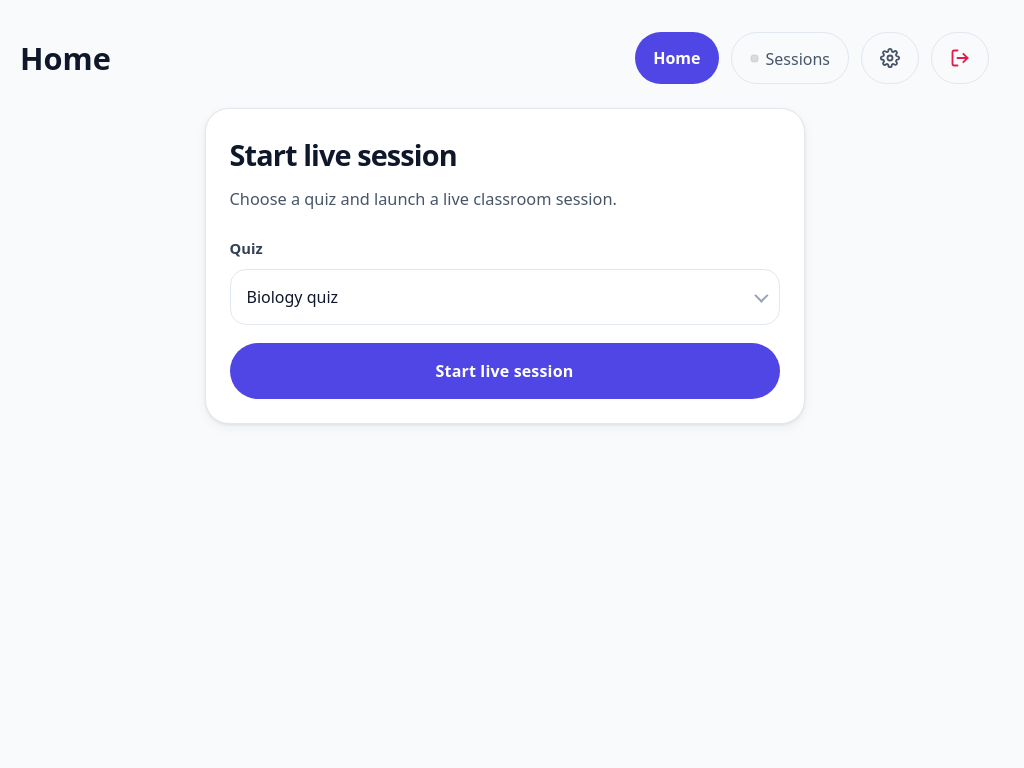
Test: App › shows simplified settings without app identity controls
This screenshot has width=1024, height=768.
Click the 1st button named "Settings" at (890, 58), box [861,32,919,84]
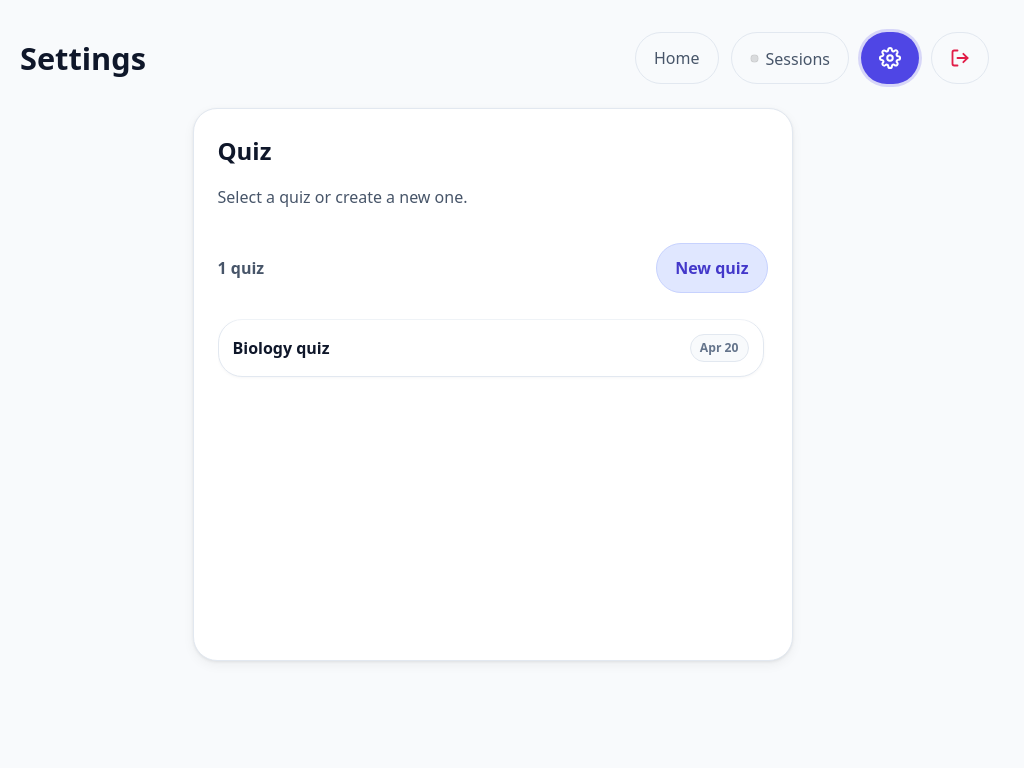
Now the heading "Quiz" is shown, box [218,133,271,169]
Click the button "New quiz" at (712, 268), box [656,243,768,293]
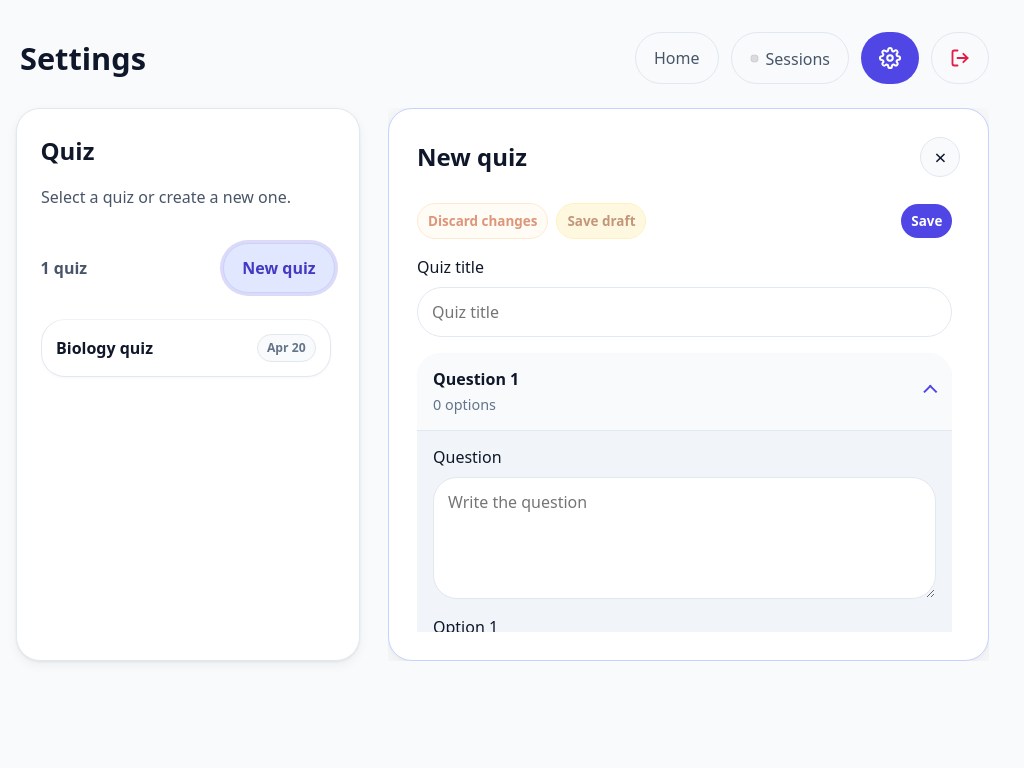
Now the field labelled "Quiz title" is shown, box [417,287,952,337]
Now the button "Discard changes" is disabled, box [417,203,548,239]
Now the button "Save draft" is disabled, box [556,203,646,239]
